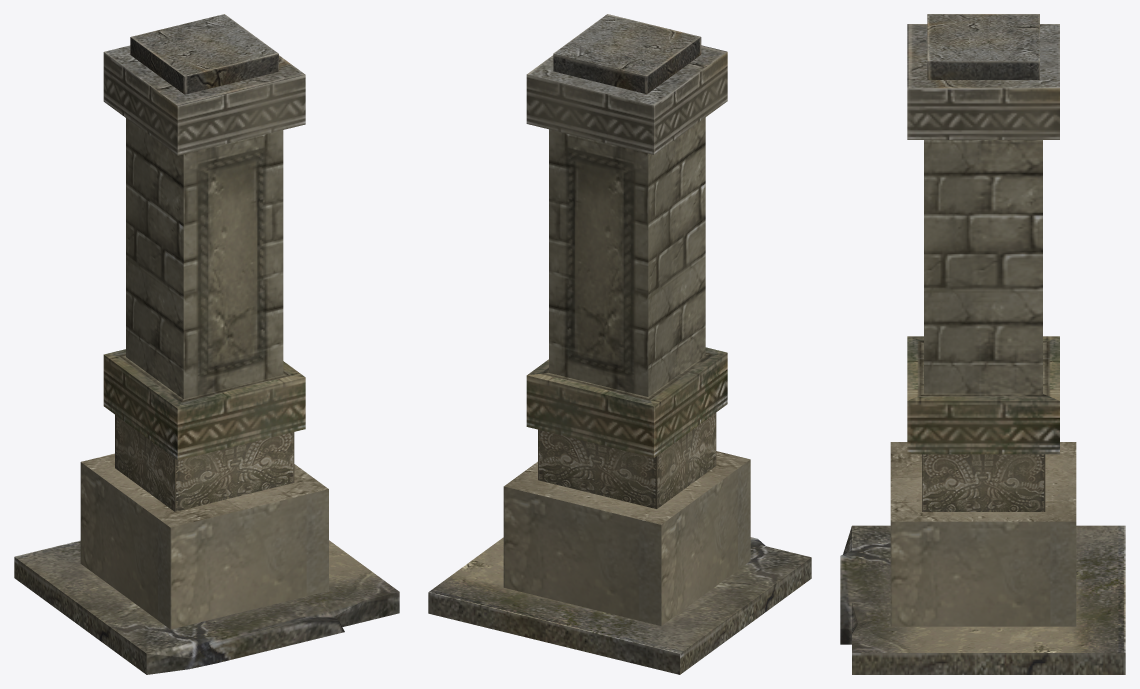
The model's file is BraTrace002.FBX.
3 renders of one model, left to right at view 1: azimuth 30°, elevation 25°; view 2: azimuth 150°, elevation 25°; view 3: azimuth 270°, elevation 25°, orthographic. The views are drawn at different scales.
Parts seen in each view (by area): view 1: BraTrace002; view 2: BraTrace002; view 3: BraTrace002.
Part boxes in pixels (x1,y1,x2,y2): BraTrace002: (14,14,399,674); BraTrace002: (428,14,811,674); BraTrace002: (840,14,1125,674).
Size of the model in its own units: 453 by 945 by 428.
